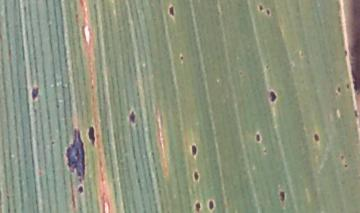tarspot: (66, 128, 85, 181), (87, 124, 96, 146), (30, 86, 40, 99), (268, 89, 277, 103), (189, 143, 198, 156), (312, 132, 321, 144), (167, 4, 175, 17), (278, 189, 285, 203), (129, 110, 136, 123), (193, 169, 200, 181), (76, 184, 85, 193), (254, 132, 261, 143), (353, 109, 360, 119), (195, 202, 201, 213), (208, 200, 214, 210), (338, 153, 346, 160), (48, 138, 56, 145), (342, 162, 349, 169), (265, 7, 271, 15), (345, 81, 351, 89), (343, 48, 349, 56), (337, 84, 342, 93), (258, 4, 264, 11), (264, 63, 270, 70), (262, 148, 268, 154), (180, 53, 184, 61)
